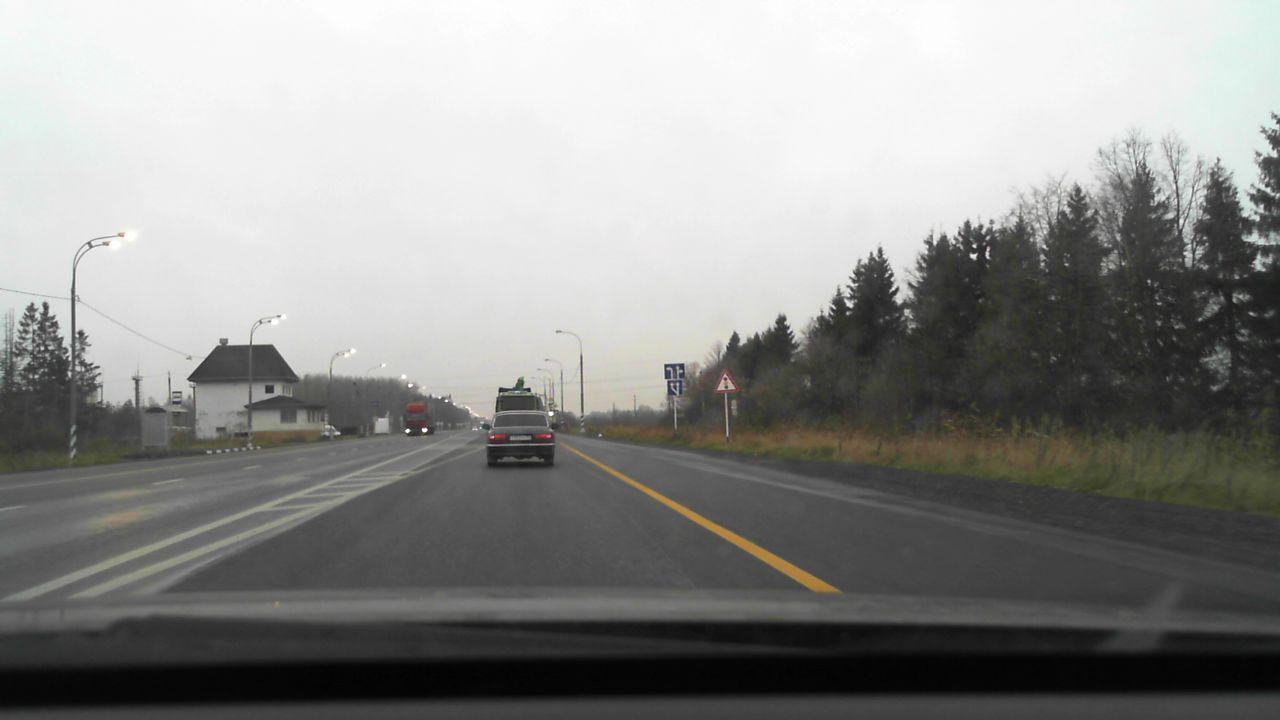1_8: (712, 367, 739, 392)
5_15_1: (663, 363, 684, 379)
5_15_4: (668, 381, 682, 395)
